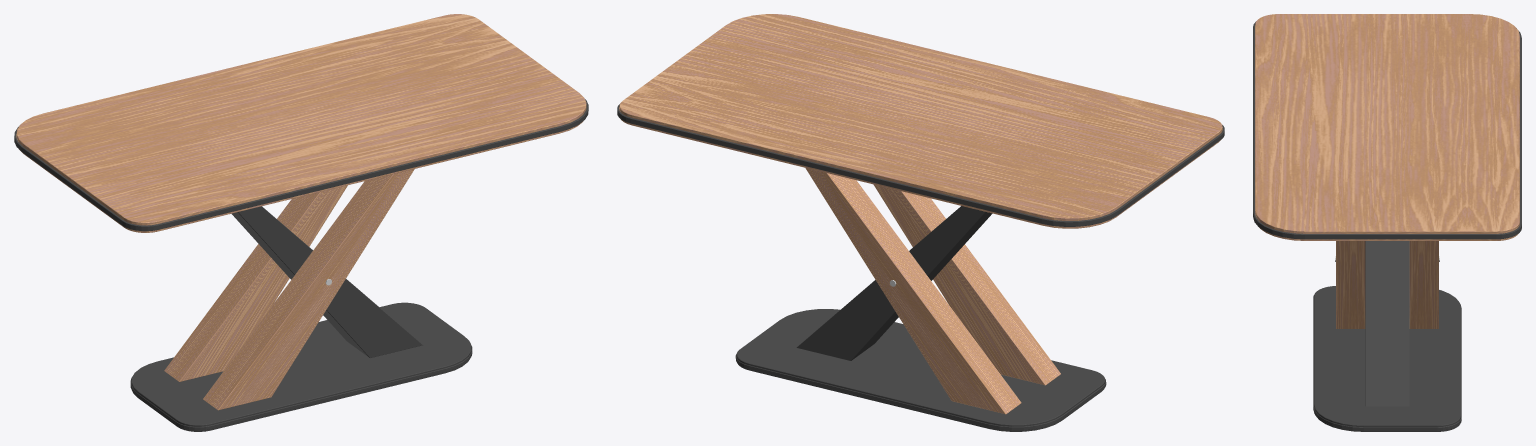
The model's file is victorian_coffee_table.glb.
3 views of the same model, side by side, from view 1: azimuth 30°, elevation 25°; view 2: azimuth 150°, elevation 25°; view 3: azimuth 270°, elevation 25° (orthographic). The views are drawn at different scales.
Visible parts, largest first — view 1: Cube, Foot, Foot_white; view 2: Cube, Foot, Foot_white; view 3: Cube, Foot, Foot_white.
Part boxes in pixels (x1=…): Cube: x1=14, y1=14, x2=588, y2=232; Foot: x1=130, y1=206, x2=472, y2=431; Foot_white: x1=164, y1=169, x2=414, y2=410; Cube: x1=617, y1=14, x2=1224, y2=228; Foot: x1=735, y1=206, x2=1106, y2=431; Foot_white: x1=805, y1=168, x2=1060, y2=414; Cube: x1=1253, y1=14, x2=1521, y2=240; Foot: x1=1313, y1=241, x2=1461, y2=431; Foot_white: x1=1336, y1=241, x2=1438, y2=328.
Size of the model in its own units: 1.41 by 0.72 by 0.7316.
3 materials, 1 textured.
